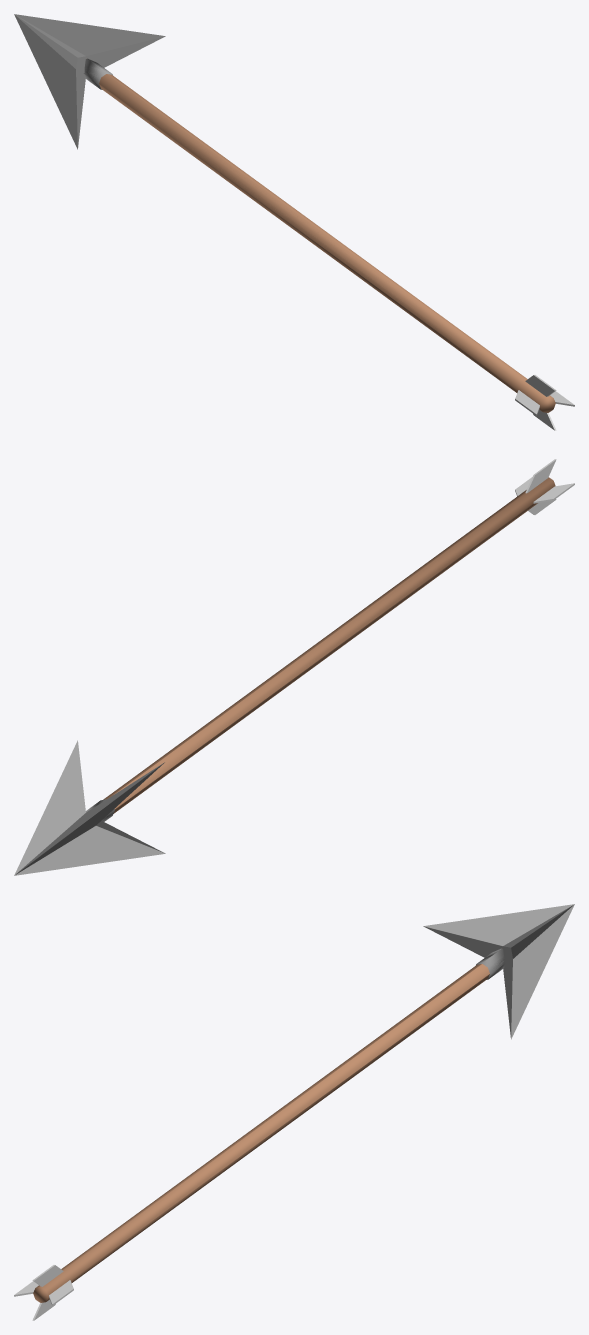
3 renders of one model, top to bottom at view 1: azimuth 30°, elevation 25°; view 2: azimuth 150°, elevation 25°; view 3: azimuth 330°, elevation 25°, orthographic.
Parts seen in each view (by area): view 1: Cube; view 2: Cube; view 3: Cube.
Boxes of the visible parts, x1=… form: Cube: x1=14, y1=14, x2=574, y2=430; Cube: x1=14, y1=459, x2=574, y2=875; Cube: x1=14, y1=904, x2=574, y2=1320.
Size of the model in its own units: 1.41 by 1.41 by 15.05.
